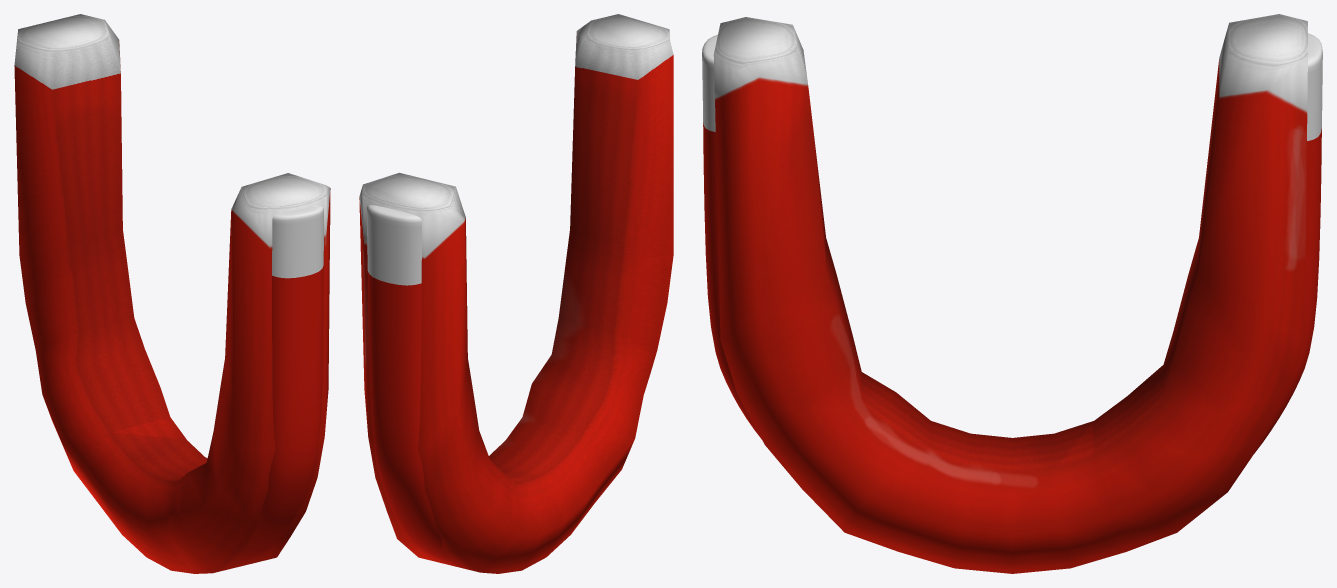
The model's file is magnet (2).fbx.
3 views of the same model, side by side, from view 1: azimuth 30°, elevation 25°; view 2: azimuth 150°, elevation 25°; view 3: azimuth 270°, elevation 25° (orthographic). The views are drawn at different scales.
Parts seen in each view (by area): view 1: Cube, Cube.001; view 2: Cube, Cube.001; view 3: Cube, Cube.001.
Boxes of the visible parts, bbox=[...] form: Cube: bbox=[14, 14, 330, 573]; Cube.001: bbox=[240, 206, 323, 560]; Cube: bbox=[359, 14, 673, 573]; Cube.001: bbox=[366, 205, 451, 561]; Cube: bbox=[713, 14, 1307, 573]; Cube.001: bbox=[702, 33, 1322, 453].
Size of the model in its own units: 67.38 by 254 by 275.
3 materials, 1 textured.
